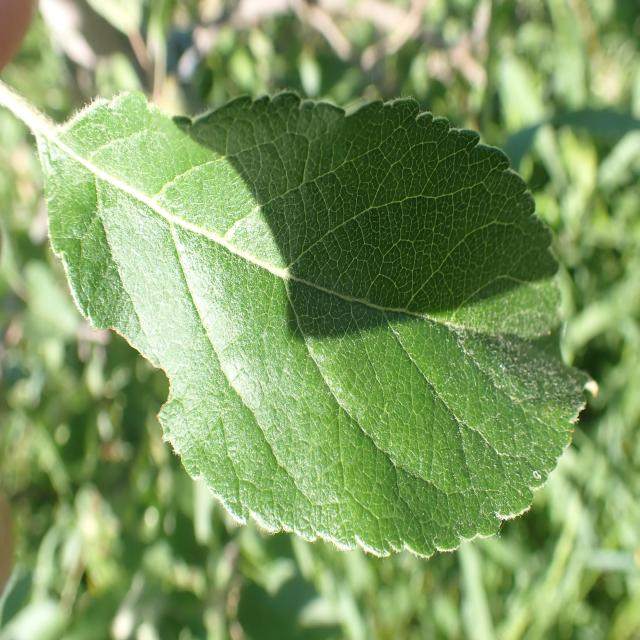healthy: (36, 88, 602, 560)
